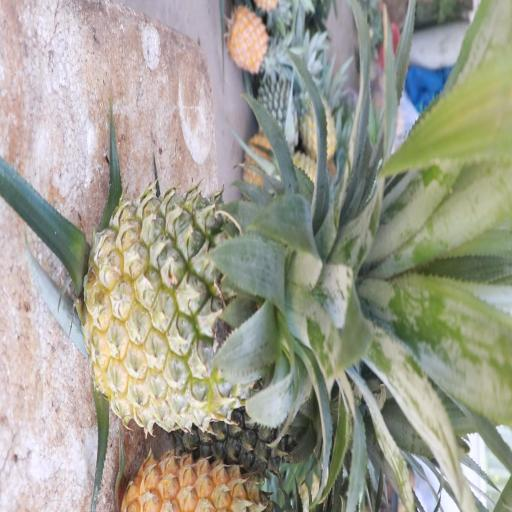------------------------------: (89, 194, 337, 430)
Pineapple - v8 v1: (298, 66, 337, 158), (226, 0, 272, 75)
